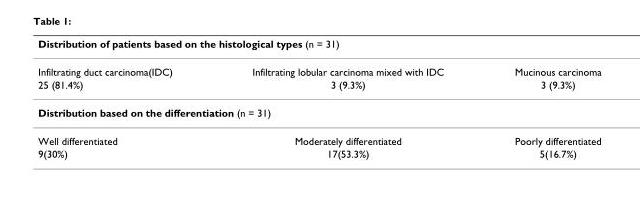table: (37, 37, 600, 159)
table column: (211, 37, 478, 159), (37, 37, 211, 159), (478, 37, 600, 159)
table column header: (37, 37, 600, 77)
table projected row header: (37, 98, 600, 126)
table row: (37, 98, 600, 126), (37, 77, 600, 98), (37, 37, 600, 57), (37, 57, 600, 77), (37, 126, 600, 146), (37, 146, 600, 159)
table spanning cell: (37, 37, 600, 57)
